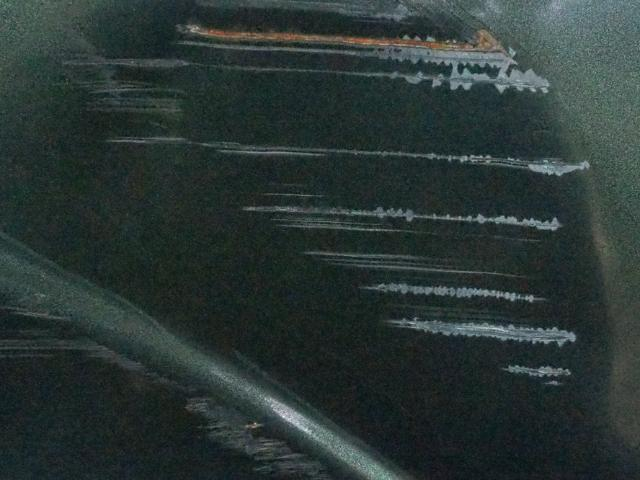Door: (45, 2, 626, 480)
